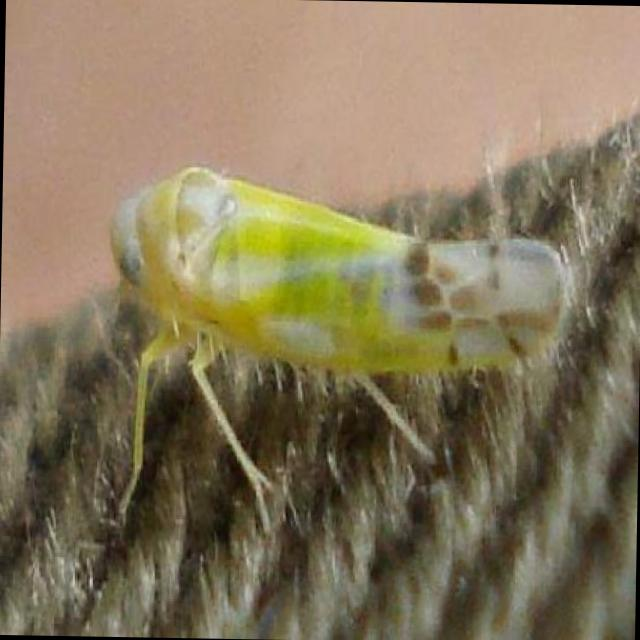green-leafhopper: (104, 168, 564, 380)
